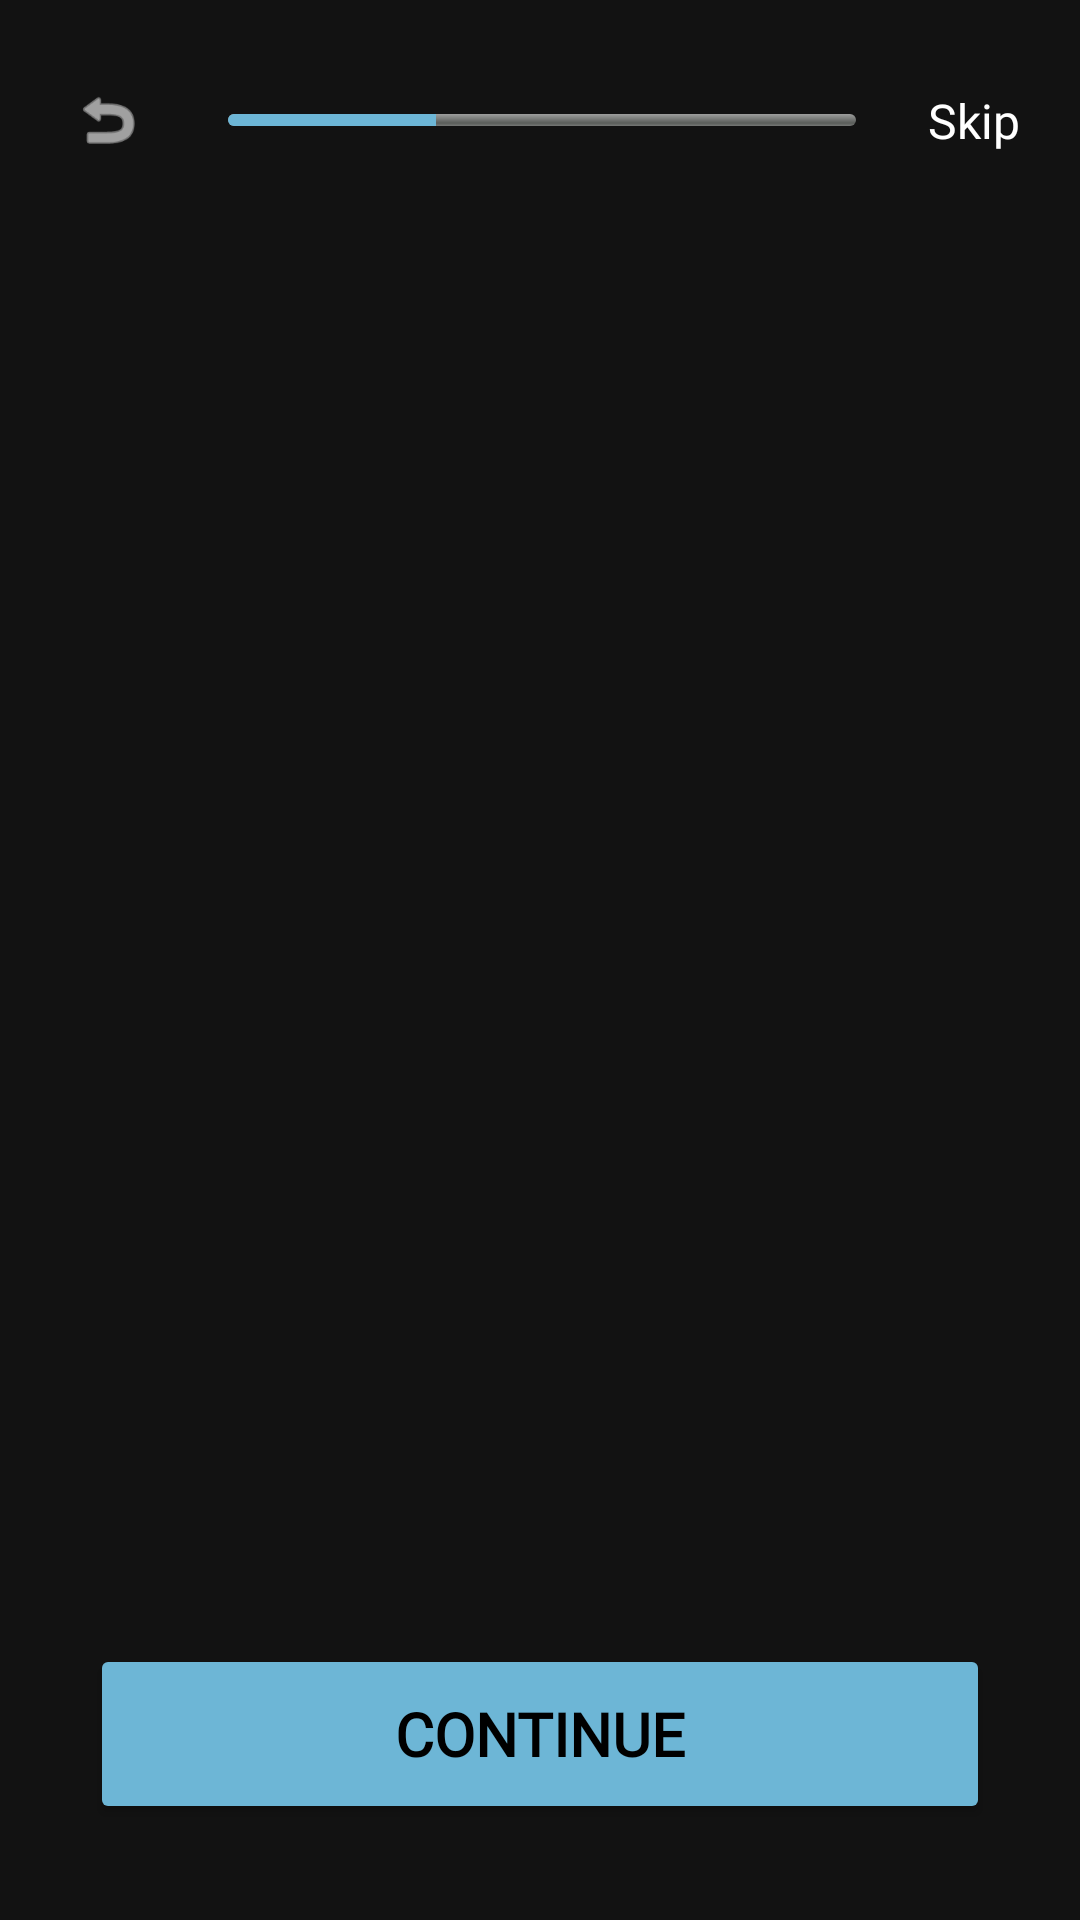

Locate icon controls on the screen. Image size 1080px×1920px, boxes as {"x1": x1, "y1": y1, "x2": x2, "y2": y2}.
Back: {"x1": 83, "y1": 97, "x2": 135, "y2": 144}
